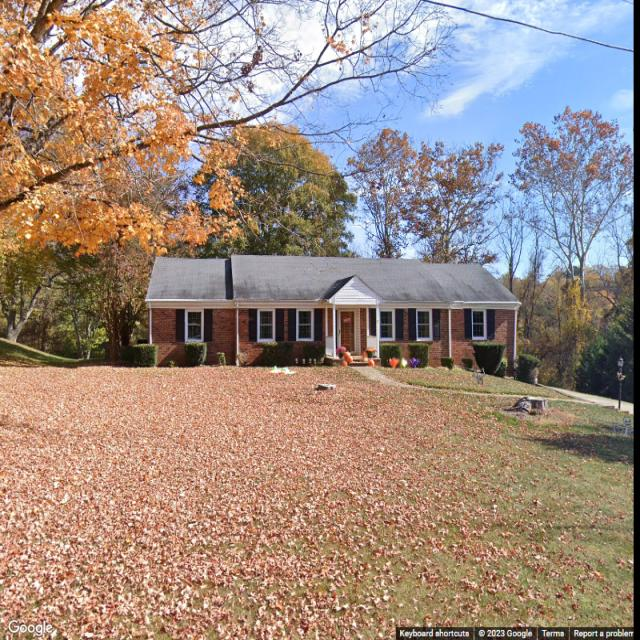House: (143, 252, 523, 370)
